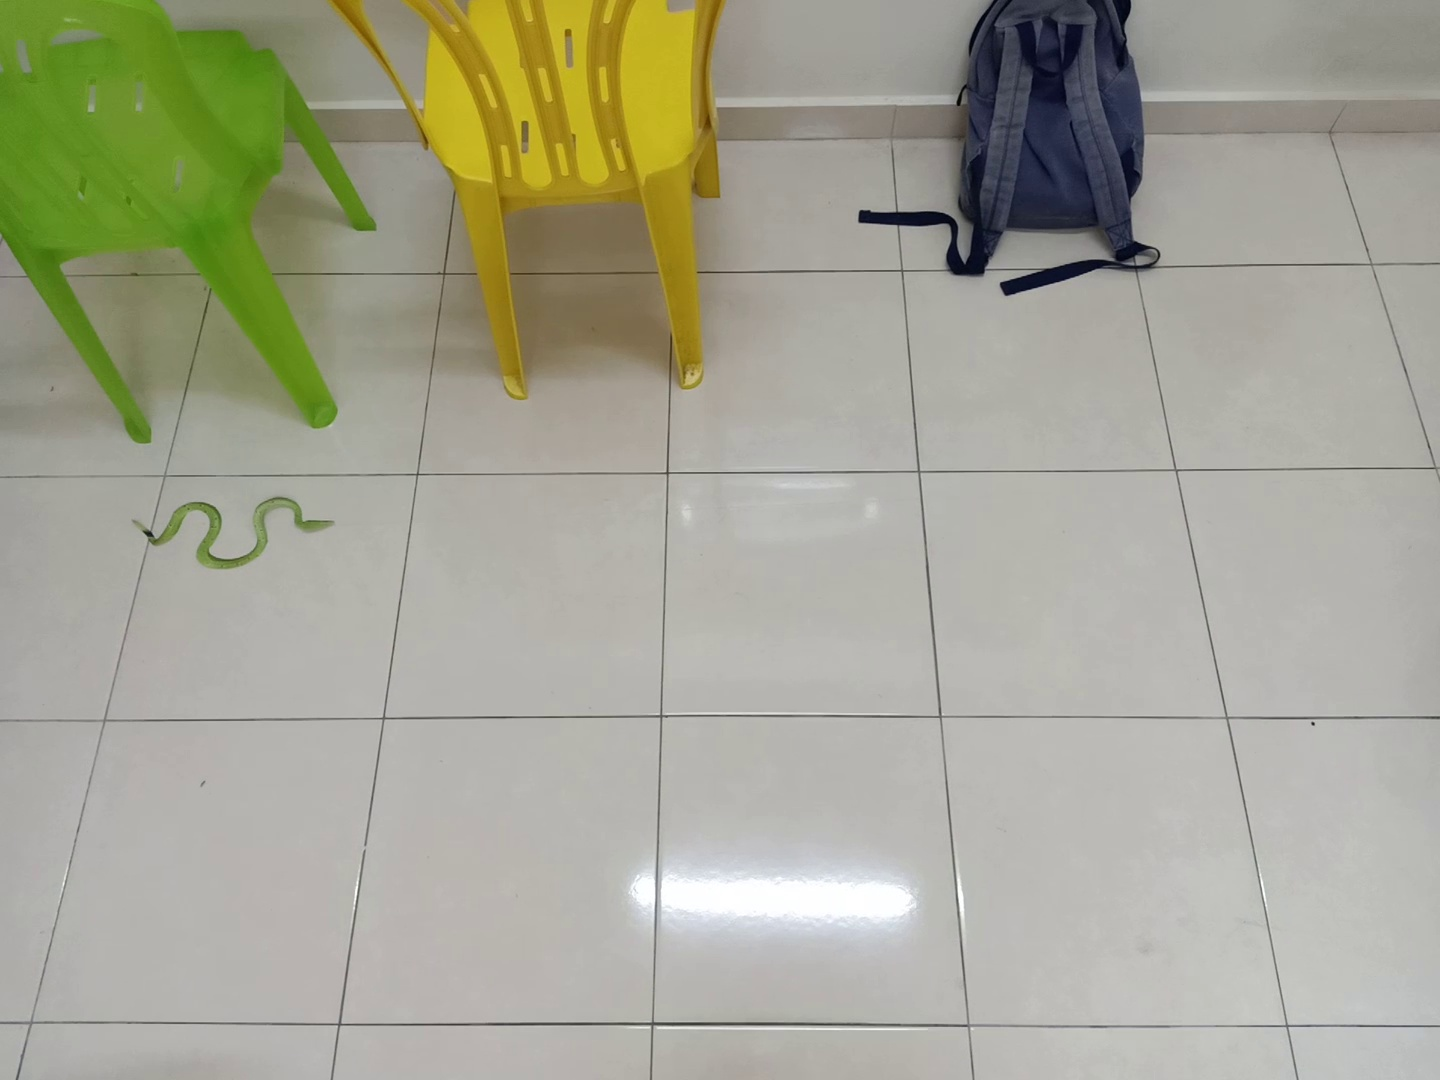snake: (125, 483, 345, 579)
